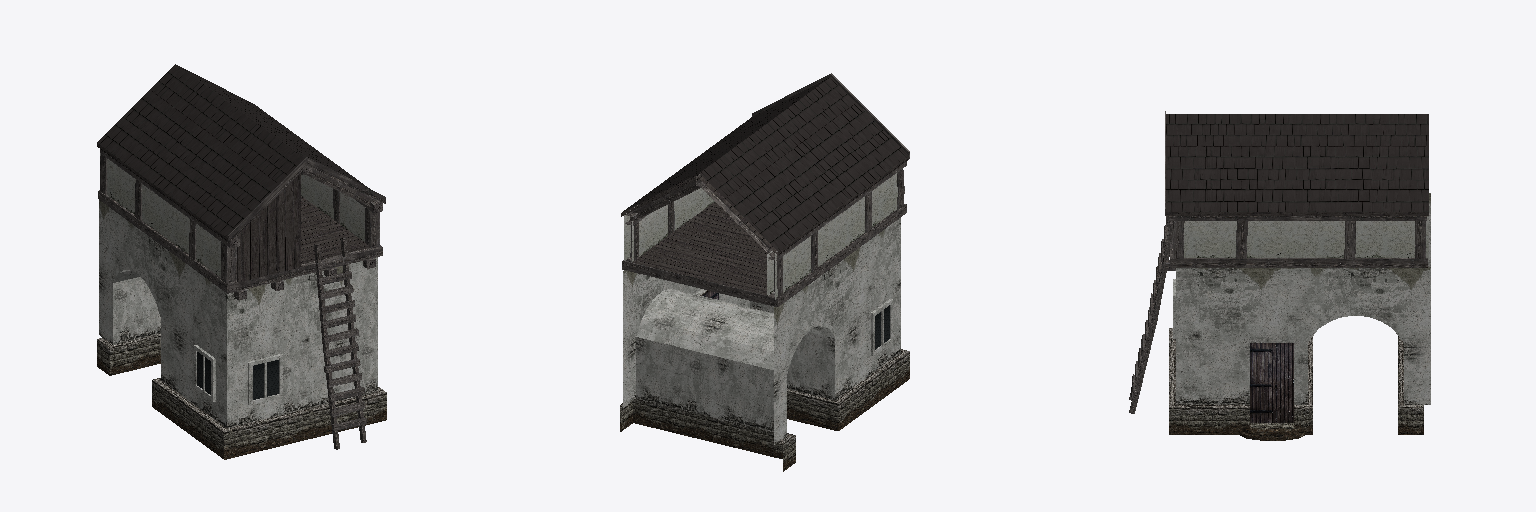
The picture shows the model from 3 angles: view 1: azimuth 30°, elevation 25°; view 2: azimuth 150°, elevation 25°; view 3: azimuth 270°, elevation 25°; orthographic projection.
Parts seen in each view (by area): view 1: Object_poorfolks_stucco2.jpg, Object_poorfolks_roof.jpg, Object_poorfolks_logs.jpg, Object_poorfolks_bricks.jpg, Object_poorfolks_attic_planks.jpg, Object_poorfolks_stucco.jpg, Object_poorfolks_window.jpg, Object_poorlords_beam_end.jpg; view 2: Object_poorfolks_stucco2.jpg, Object_poorfolks_roof.jpg, Object_poorfolks_bricks.jpg, Object_poorfolks_attic_planks.jpg, Object_poorfolks_logs.jpg, Object_poorfolks_stucco.jpg; view 3: Object_poorfolks_roof.jpg, Object_poorfolks_stucco2.jpg, Object_poorfolks_stucco.jpg, Object_poorfolks_logs.jpg, Object_poorfolks_bricks.jpg, Object_poorfolks_door5.jpg, Object_poorfolks_attic_planks.jpg.
Part boxes in pixels (x1,y1,x2,y2): Object_poorfolks_stucco2.jpg: (99, 200, 377, 427); Object_poorfolks_roof.jpg: (97, 64, 369, 237); Object_poorfolks_logs.jpg: (98, 149, 385, 449); Object_poorfolks_bricks.jpg: (97, 334, 386, 459); Object_poorfolks_attic_planks.jpg: (97, 143, 368, 281); Object_poorfolks_stucco.jpg: (100, 153, 364, 277); Object_poorfolks_window.jpg: (197, 352, 278, 399); Object_poorlords_beam_end.jpg: (230, 166, 382, 430); Object_poorfolks_stucco2.jpg: (623, 218, 900, 444); Object_poorfolks_roof.jpg: (623, 77, 908, 250); Object_poorfolks_bricks.jpg: (620, 349, 909, 471); Object_poorfolks_attic_planks.jpg: (621, 156, 908, 294); Object_poorfolks_logs.jpg: (622, 73, 909, 306); Object_poorfolks_stucco.jpg: (624, 173, 897, 299); Object_poorfolks_roof.jpg: (1166, 114, 1428, 211); Object_poorfolks_stucco2.jpg: (1173, 193, 1430, 404); Object_poorfolks_stucco.jpg: (1184, 216, 1428, 259); Object_poorfolks_logs.jpg: (1129, 111, 1427, 413); Object_poorfolks_bricks.jpg: (1169, 328, 1423, 440); Object_poorfolks_door5.jpg: (1250, 343, 1293, 422); Object_poorfolks_attic_planks.jpg: (1166, 212, 1428, 215).
Bounding box in the file's own units: 1.6 × 2.5 × 2.4.
Materials: 10 (9 with a texture image).